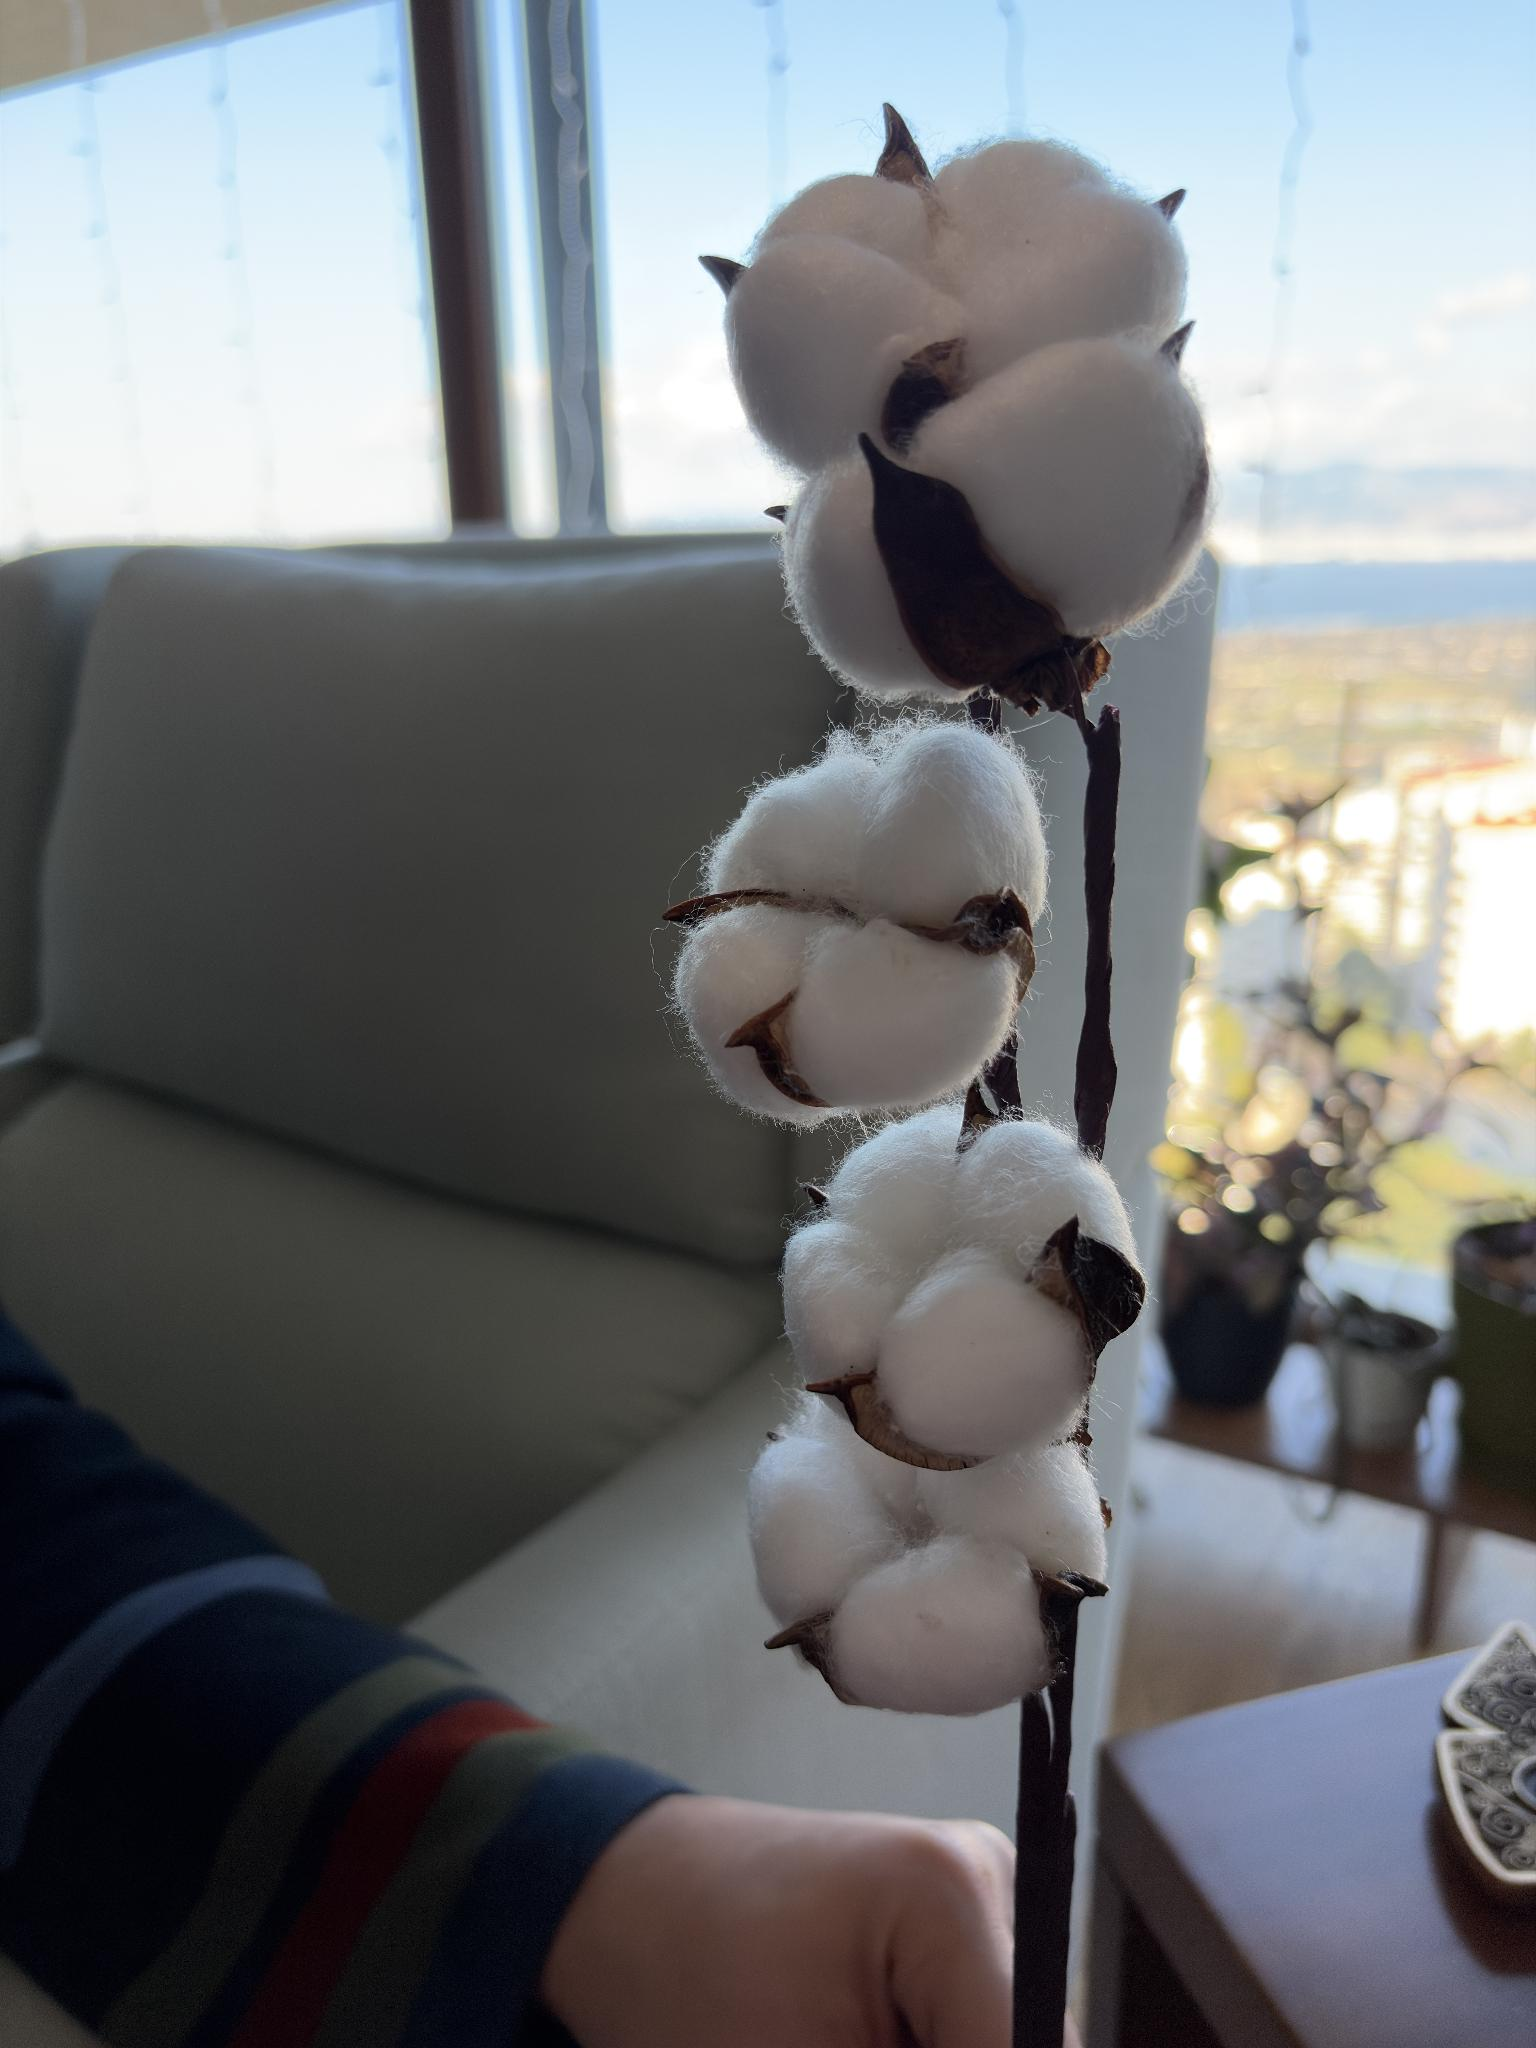cotton_boll: (904, 339, 1210, 637), (724, 232, 965, 474), (781, 919, 1020, 1111), (876, 1253, 1086, 1456), (673, 905, 854, 1126), (824, 1535, 1047, 1714), (855, 721, 1046, 927), (783, 450, 939, 697), (971, 198, 1186, 376), (944, 1121, 1139, 1274), (933, 140, 1112, 300), (749, 1435, 897, 1624), (707, 748, 878, 905), (915, 1442, 1107, 1580), (828, 1105, 960, 1266), (784, 1224, 904, 1384), (810, 1397, 945, 1532), (760, 174, 928, 269)
cotton_boll-cluster: (721, 132, 1233, 713), (663, 714, 1055, 1129), (770, 1113, 1150, 1476), (741, 1369, 1117, 1727)
